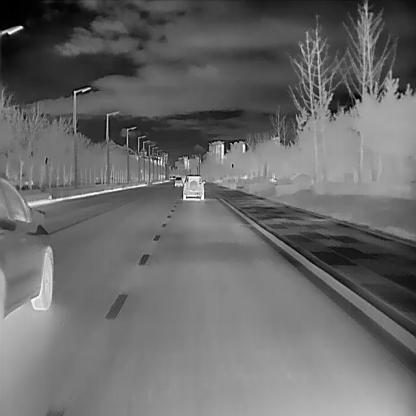car: (0, 170, 54, 327), (182, 174, 205, 201), (174, 176, 182, 186)
